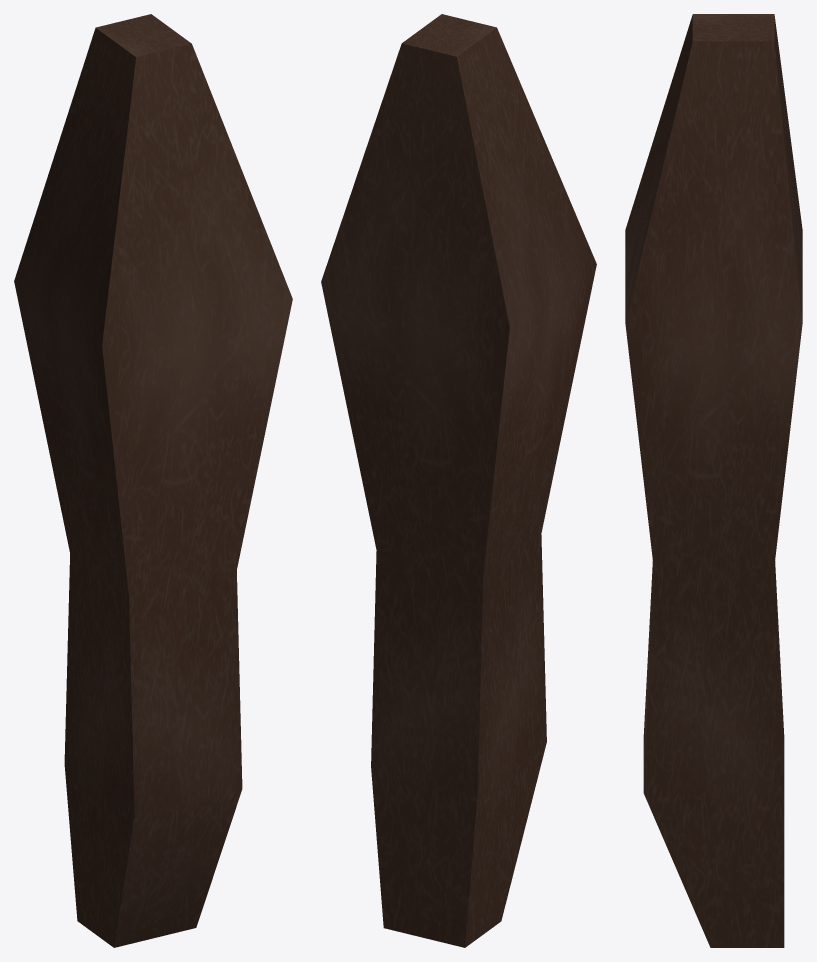
The model's file is ClocksinB.FBX.
3 views of the same model, side by side, from view 1: azimuth 30°, elevation 25°; view 2: azimuth 150°, elevation 25°; view 3: azimuth 270°, elevation 25° (orthographic).
Visible parts, largest first — view 1: Box001; view 2: Box001; view 3: Box001.
Boxes of the visible parts, bbox=[...] form: Box001: bbox=[14, 14, 292, 947]; Box001: bbox=[321, 14, 596, 947]; Box001: bbox=[625, 14, 802, 947].
Bounding box in the file's own units: 2.03 × 9.09 × 1.62.
